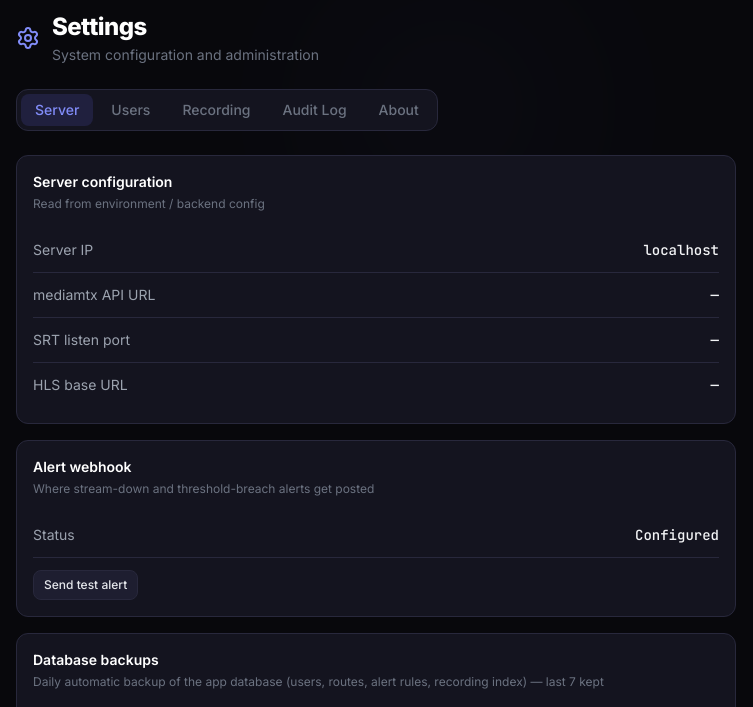
SettingsPage › sends a test alert and shows a success message
The image size is (753, 707).
Check: the text "Configured" is shown, box [635,525,719,545]
Click the button "Send test alert" at (86, 585), box [33,570,138,600]
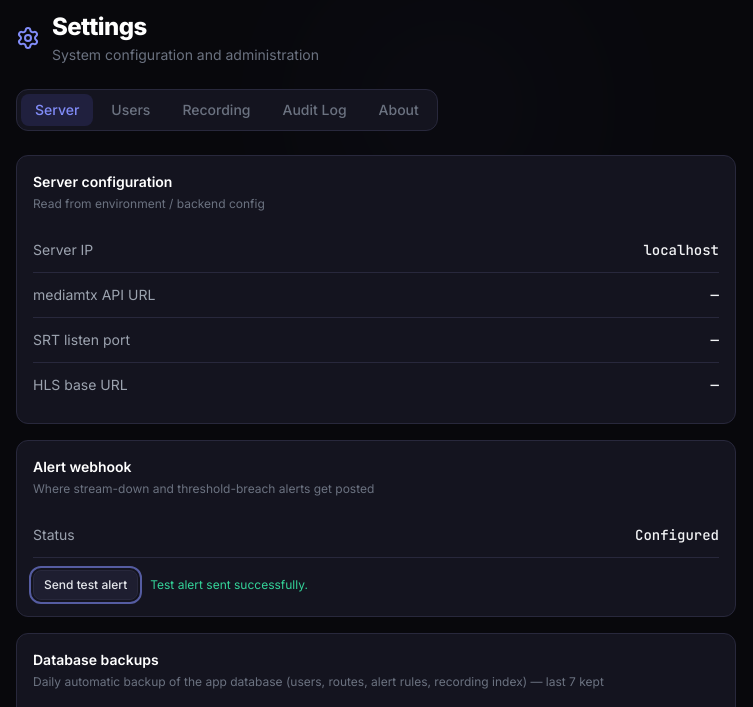
Check: the text "Test alert sent successfully." is shown, box [150,577,308,593]
